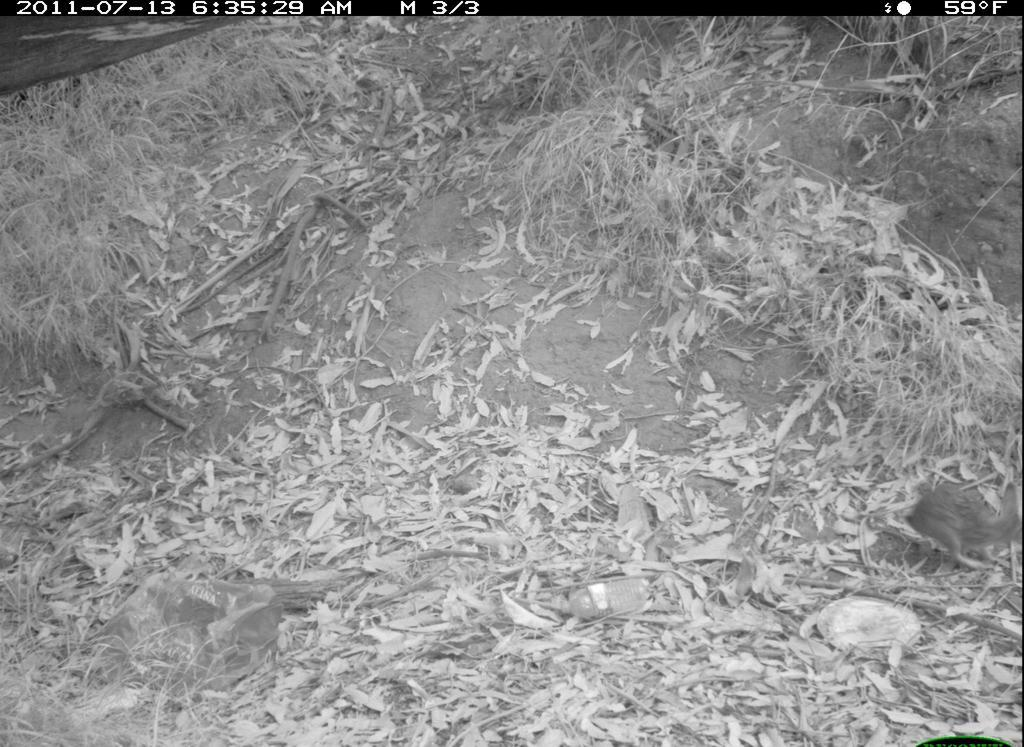rabbit: (899, 470, 1023, 584)
